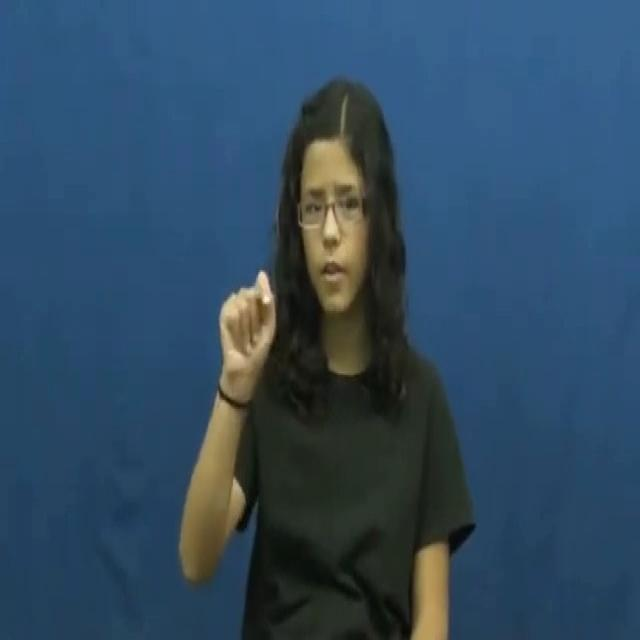yoghurt: (206, 244, 294, 411)
